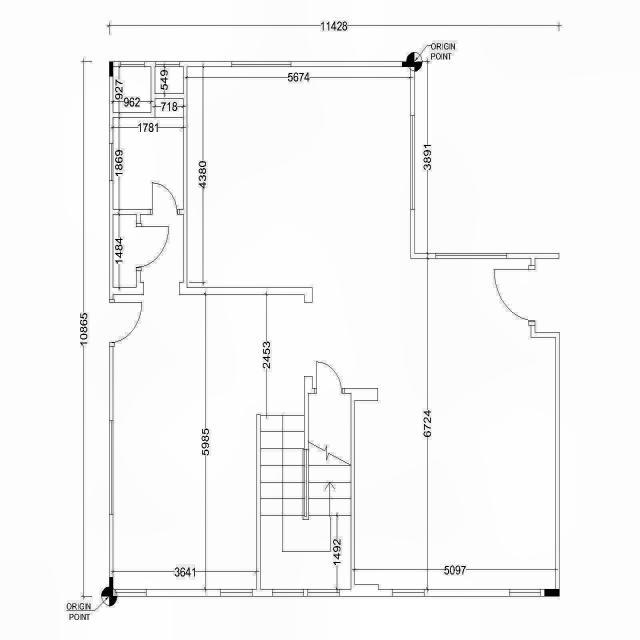Column: (544, 589, 560, 597), (402, 62, 415, 68), (110, 577, 114, 596), (109, 62, 113, 76)
Door: (494, 266, 536, 326), (109, 299, 142, 347), (136, 224, 169, 272), (314, 361, 344, 394), (150, 182, 180, 214)
Staircase: (261, 393, 351, 589)
Window: (410, 116, 415, 210), (109, 420, 113, 514), (232, 61, 292, 67), (436, 253, 506, 258), (220, 588, 252, 596), (392, 589, 424, 597), (509, 589, 541, 597), (114, 589, 146, 597), (272, 589, 304, 597), (308, 589, 340, 597), (109, 143, 113, 181), (156, 61, 180, 67), (120, 61, 144, 67)
